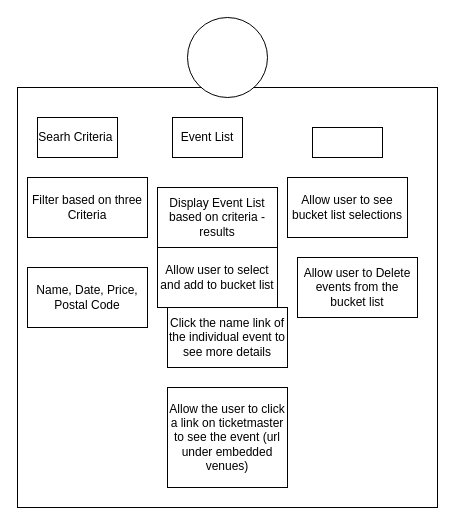
This 455x525 diagram has some shape labels left out. The shapes that lost their labels are listed below. From the top down, each one's centre as x and y in pixels, then its label:
At (x=227, y=57): "CSS - Mobile First".
At (x=347, y=142): "Bucket List Page".
